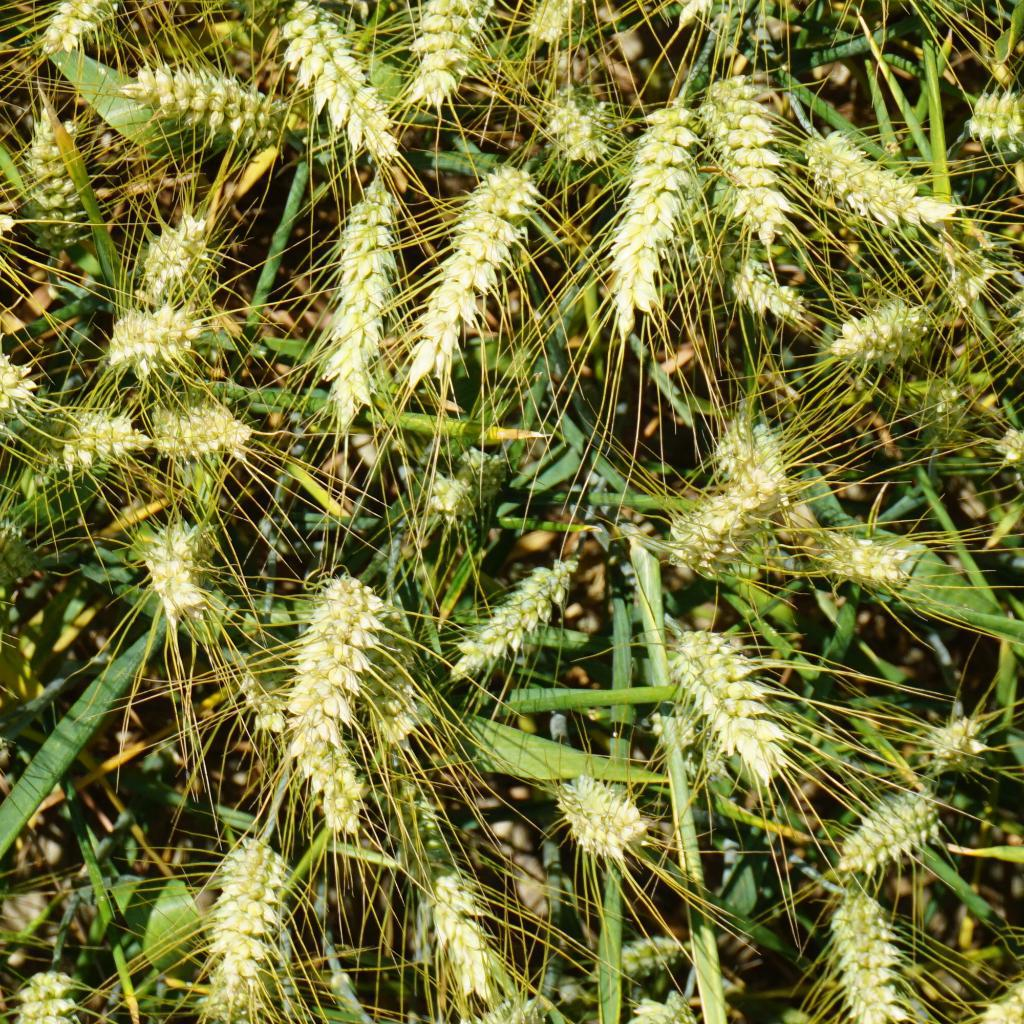0-0: (396, 154, 531, 396), (666, 612, 824, 806), (585, 101, 697, 352), (325, 160, 416, 435), (197, 811, 312, 1022), (787, 113, 956, 256), (688, 69, 803, 262), (396, 781, 498, 989), (424, 531, 574, 666), (815, 777, 977, 890), (287, 9, 395, 155), (295, 571, 390, 734), (822, 887, 908, 1024), (551, 762, 654, 871), (656, 493, 785, 578), (125, 67, 275, 139), (20, 111, 99, 246), (136, 515, 225, 631), (706, 251, 813, 341), (140, 396, 261, 460), (371, 605, 427, 740), (134, 215, 211, 300), (810, 527, 911, 591), (300, 738, 368, 833), (821, 292, 918, 354), (0, 333, 49, 451), (717, 423, 785, 506), (464, 963, 553, 1024), (425, 0, 481, 95), (53, 410, 147, 465), (236, 646, 291, 740), (107, 305, 193, 359), (549, 84, 608, 162), (940, 224, 1007, 291), (40, 0, 135, 47), (971, 79, 1024, 155), (672, 0, 824, 26), (11, 967, 79, 1024), (985, 932, 1024, 1022), (0, 507, 42, 584), (926, 720, 987, 771), (615, 929, 689, 971), (456, 450, 513, 501), (923, 378, 967, 440), (424, 461, 467, 522), (0, 171, 24, 271), (632, 992, 698, 1024), (526, 0, 580, 37), (197, 0, 285, 16), (1003, 430, 1024, 480)
